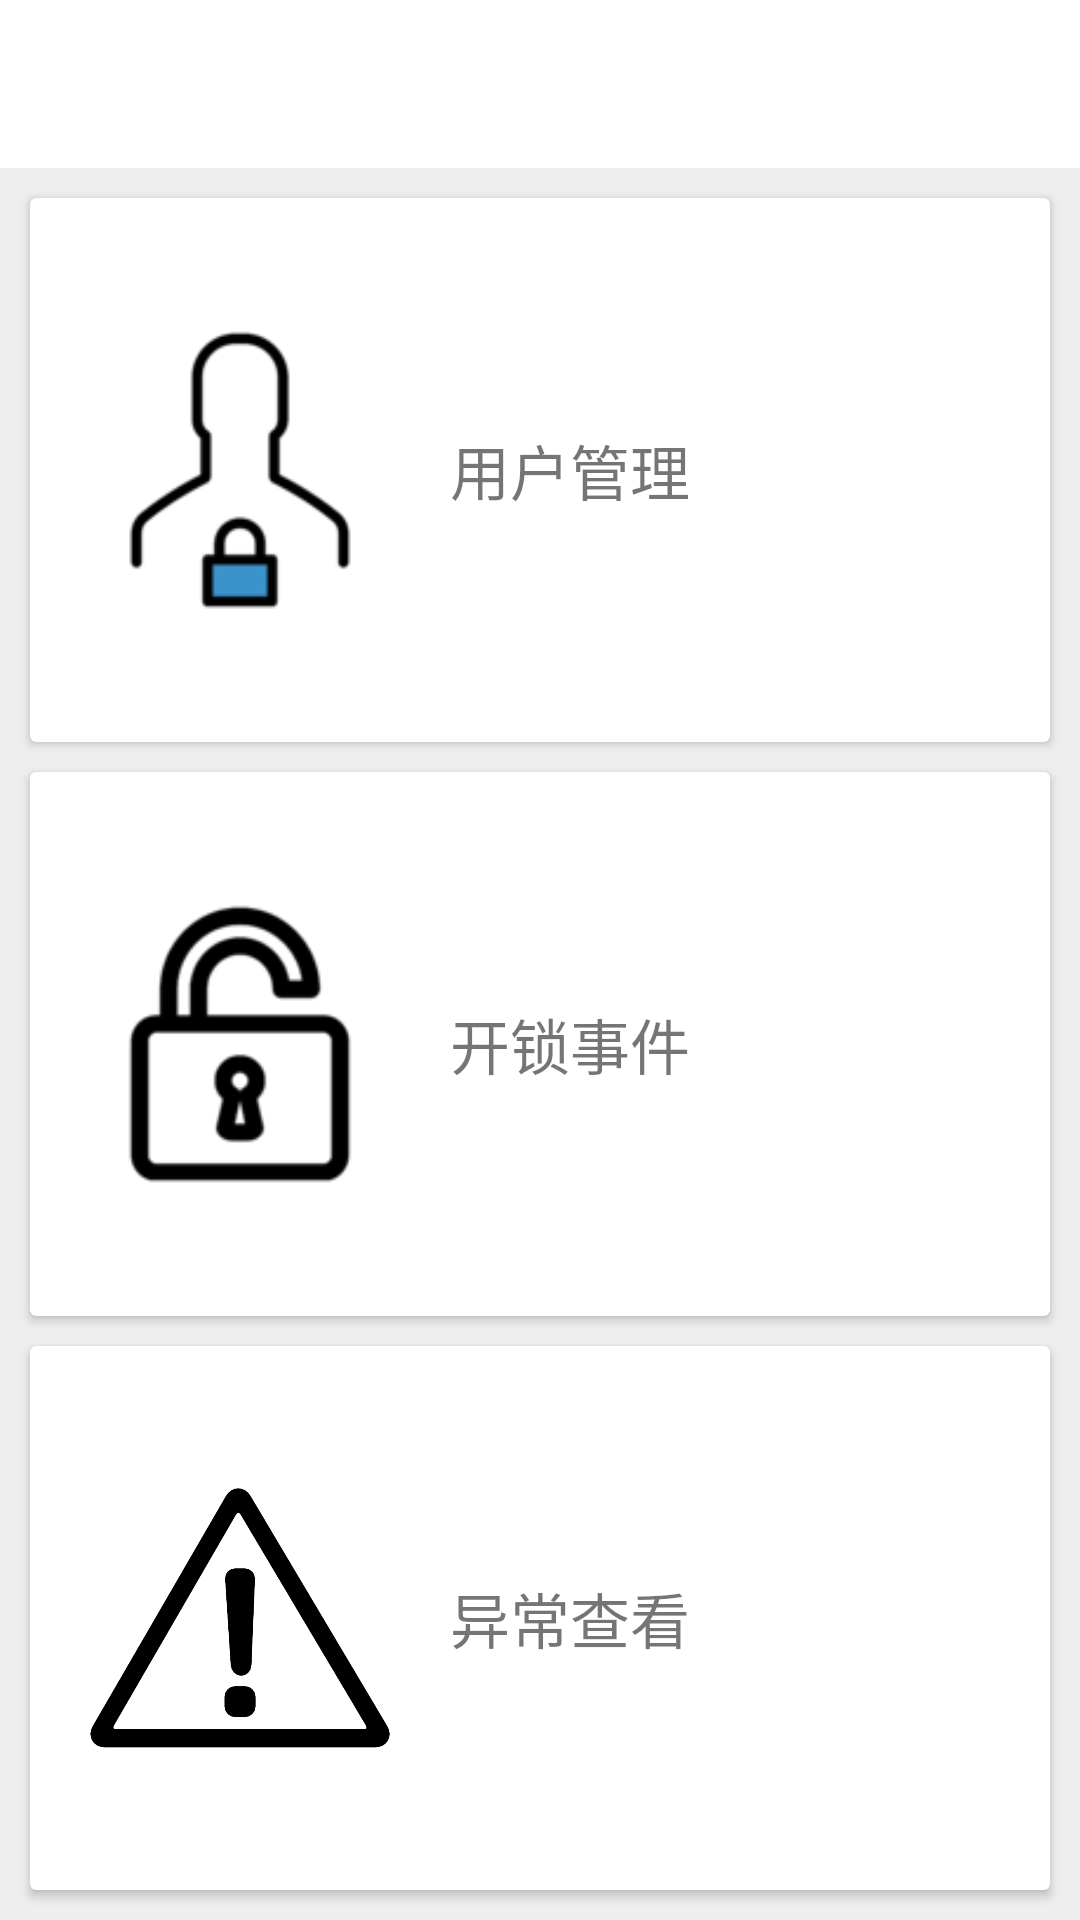

Icon bounding boxes for this 1080×1920 phone screenshot, format box(x1, y1, x2, y2):
open lock: box(129, 906, 351, 1182)
user manager: box(129, 331, 351, 609)
warning: box(90, 1488, 390, 1748)
